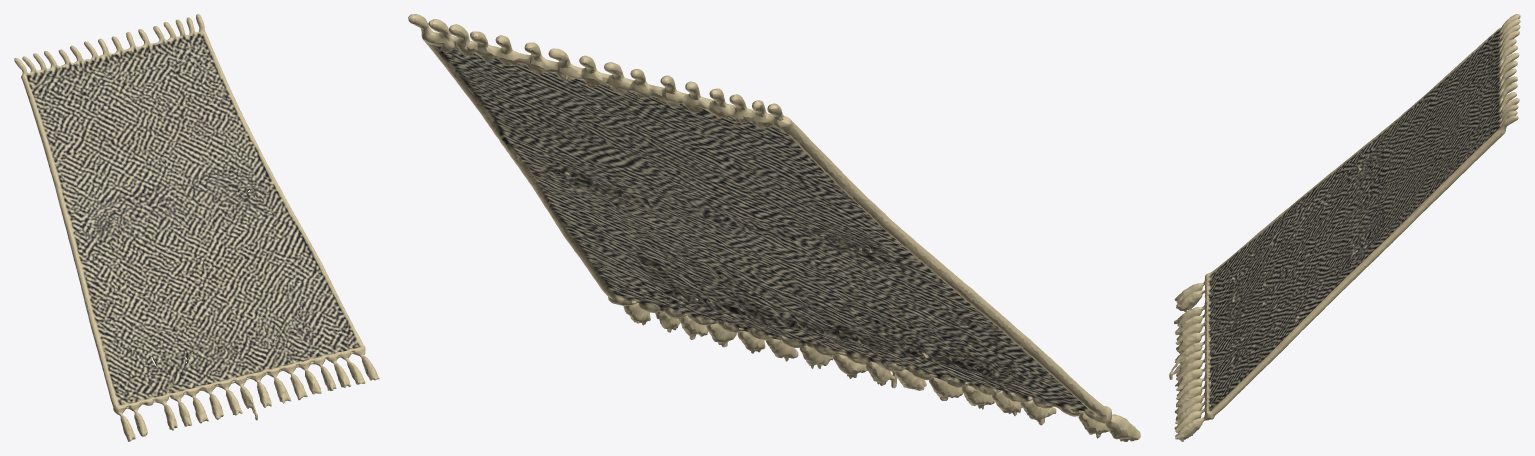
The model's file is item_9cdffc82.glb.
3 renders of one model, left to right at view 1: azimuth 30°, elevation 25°; view 2: azimuth 150°, elevation 25°; view 3: azimuth 270°, elevation 25°, orthographic. The views are drawn at different scales.
Parts seen in each view (by area): view 1: world; view 2: world; view 3: world.
Boxes of the visible parts, x1,y1,x2,y2 form: world: (14, 14, 379, 441); world: (408, 14, 1140, 441); world: (1169, 14, 1520, 441).
Bounding box in the file's own units: 2.4 × 2.5 × 2.52.
1 material, 1 textured.
